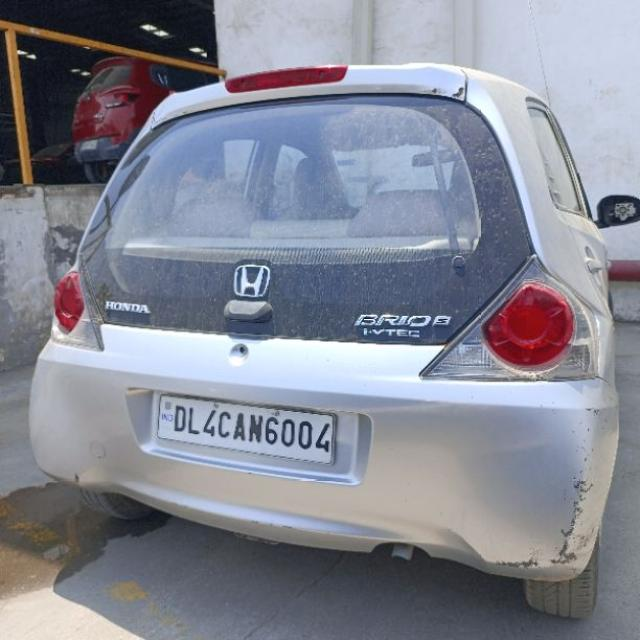license_plate: (154, 392, 336, 466)
